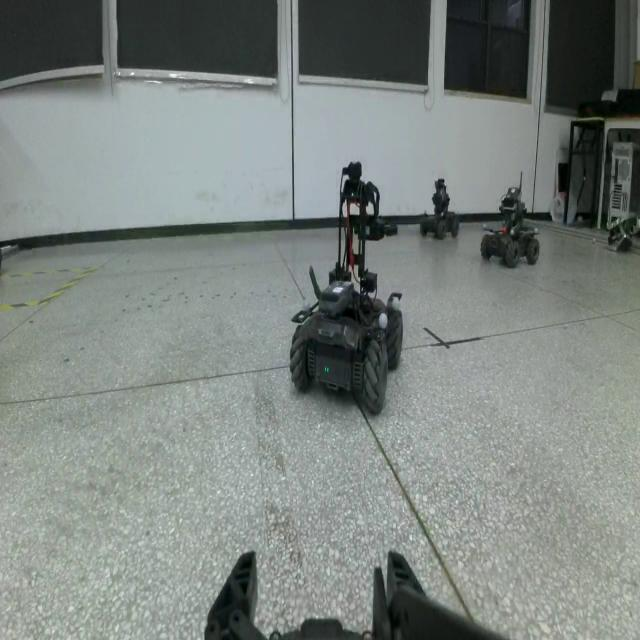ep: (287, 162, 407, 417)
s1: (480, 167, 544, 274), (415, 165, 461, 246)
